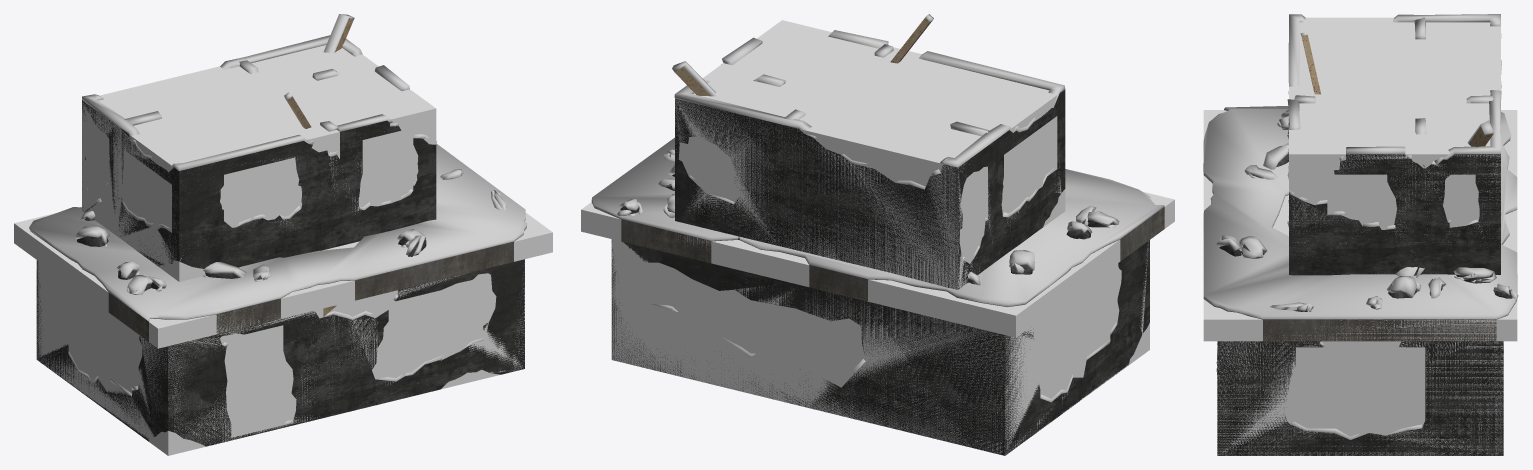
Rendered from House-Type04.fbx.
The picture shows the model from 3 angles, left to right: view 1: azimuth 30°, elevation 25°; view 2: azimuth 150°, elevation 25°; view 3: azimuth 270°, elevation 25°; orthographic projection. The views are drawn at different scales.
Visible parts, largest first — view 1: House-Type04_col, House-Type04, snow; view 2: House-Type04_col, House-Type04, snow; view 3: House-Type04_col, House-Type04, snow.
Part boxes in pixels (x1,y1,x2,y2): House-Type04_col: [14, 45, 552, 455]; House-Type04: [30, 18, 526, 446]; snow: [29, 14, 527, 424]; House-Type04_col: [581, 20, 1174, 455]; House-Type04: [592, 17, 1164, 455]; snow: [591, 14, 1164, 402]; House-Type04_col: [1203, 17, 1517, 455]; House-Type04: [1204, 34, 1516, 455]; snow: [1203, 14, 1518, 439].
Size of the model in its own units: 486 by 360 by 309.
